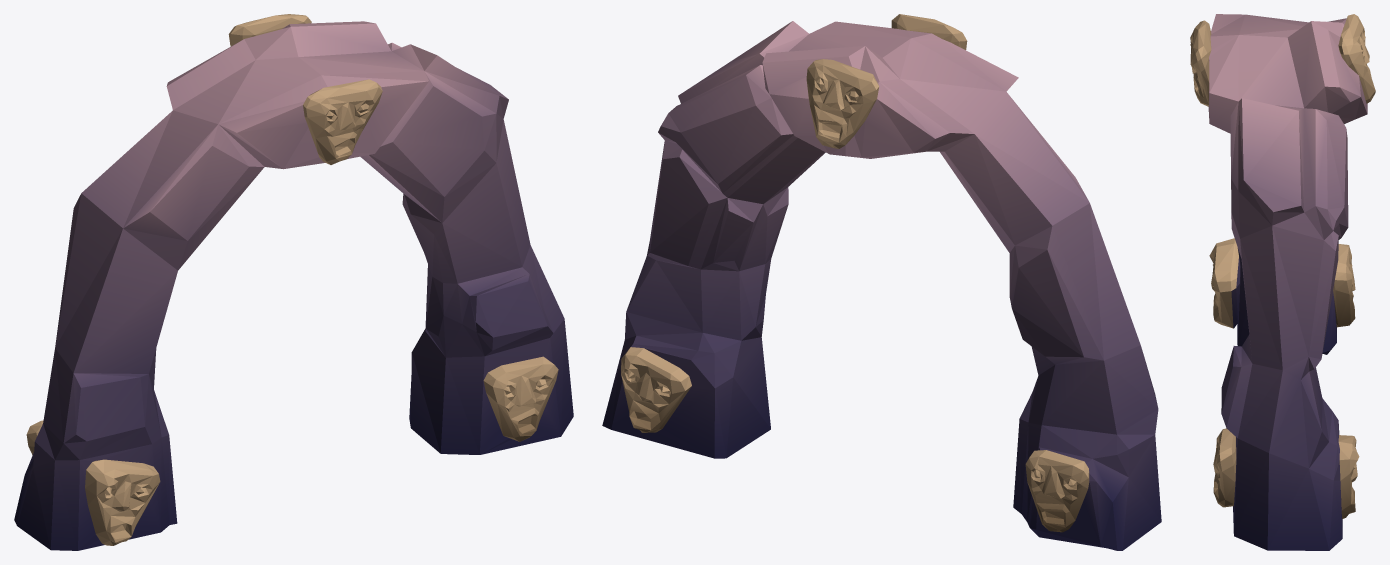
The model's file is PORTAL.fbx.
3 views of the same model, side by side, from view 1: azimuth 30°, elevation 25°; view 2: azimuth 150°, elevation 25°; view 3: azimuth 270°, elevation 25° (orthographic). The views are drawn at different scales.
Visible parts, largest first — view 1: PORTAL; view 2: PORTAL; view 3: PORTAL.
Boxes of the visible parts, left/top/right/bottom form: PORTAL: left=14, top=14, right=573, bottom=550; PORTAL: left=602, top=14, right=1161, bottom=550; PORTAL: left=1190, top=14, right=1375, bottom=550.
Bounding box in the file's own units: 788 × 632 × 254.
